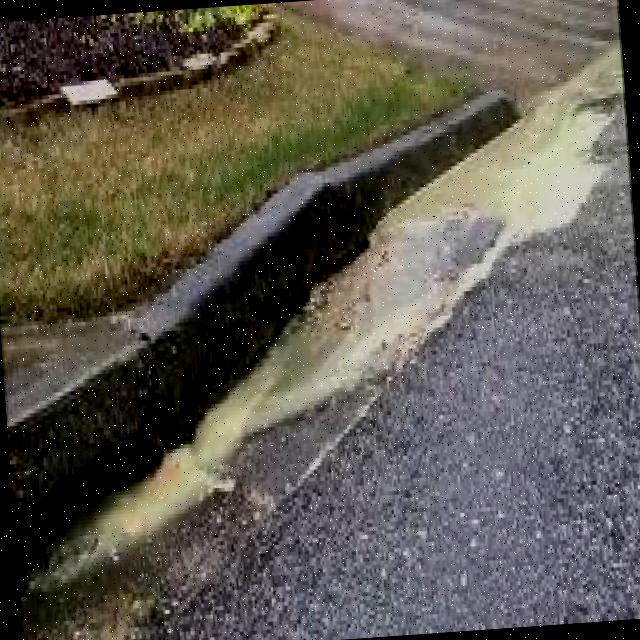curb: (126, 165, 309, 429), (1, 300, 166, 550), (307, 75, 516, 245)
